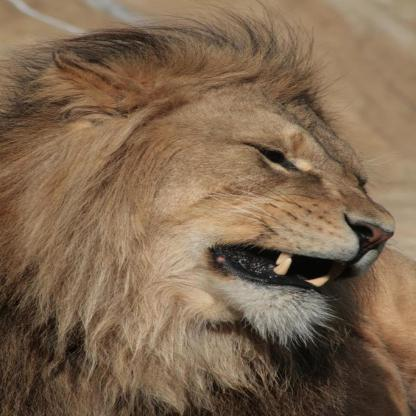lion: (46, 20, 398, 342)
